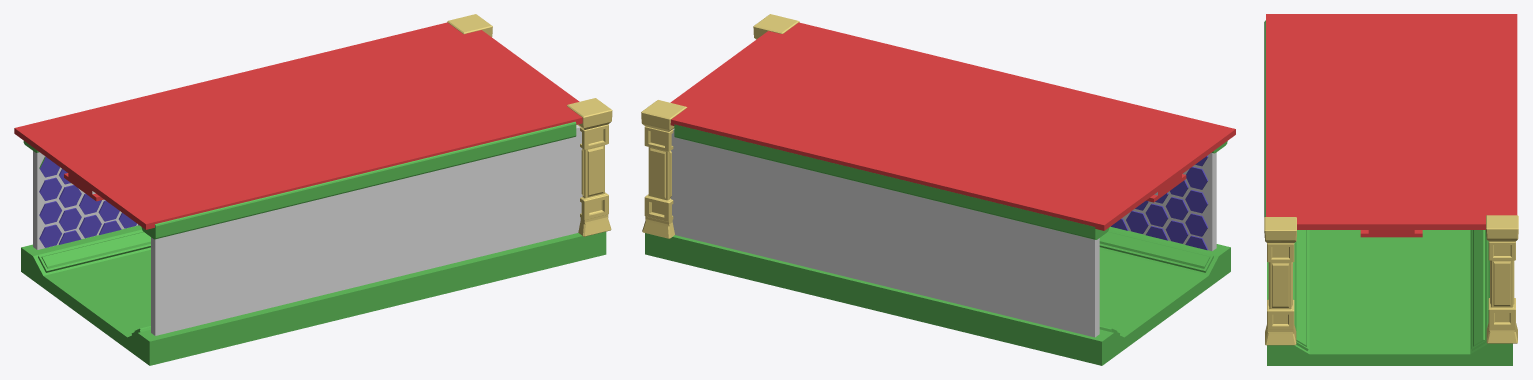
The model's file is uzunkoridor.fbx.
3 views of the same model, side by side, from view 1: azimuth 30°, elevation 25°; view 2: azimuth 150°, elevation 25°; view 3: azimuth 270°, elevation 25° (orthographic). The views are drawn at different scales.
Visible parts, largest first — view 1: Cube.003; view 2: Cube.003; view 3: Cube.003.
Part boxes in pixels (bbox=[...]): Cube.003: bbox=[14, 14, 612, 365]; Cube.003: bbox=[641, 14, 1235, 365]; Cube.003: bbox=[1264, 14, 1518, 365].
Size of the model in its own units: 4666 by 1381 by 2306.
